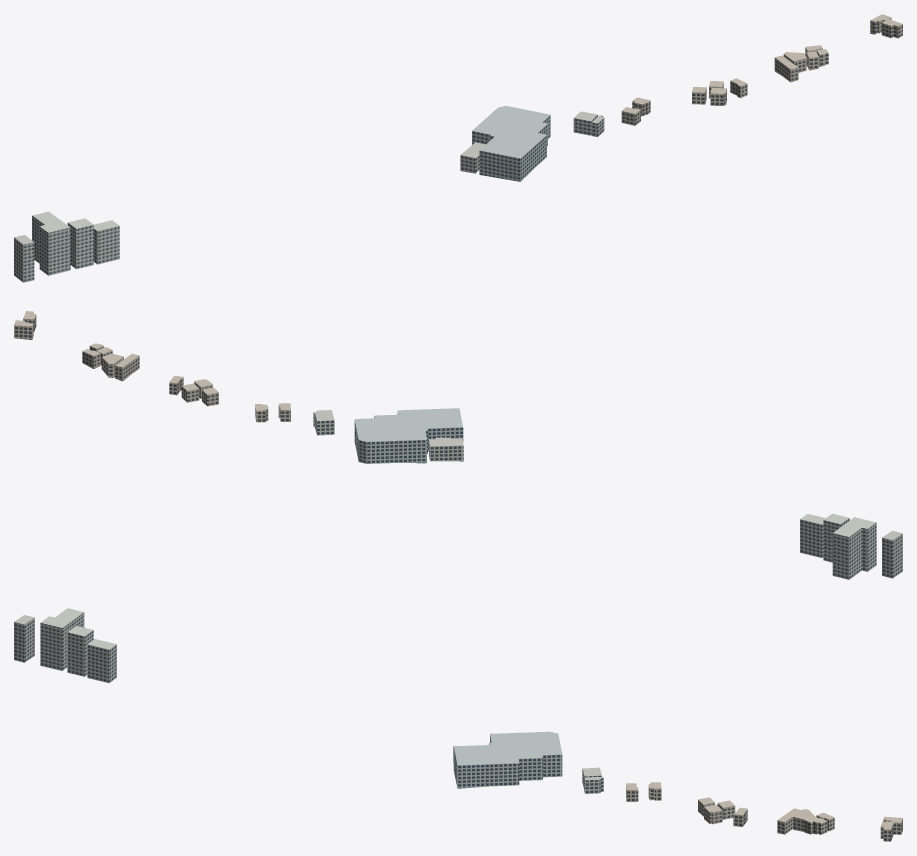
The model's file is city_-8_5.glb.
3 renders of one model, top to bottom at view 1: azimuth 30°, elevation 25°; view 2: azimuth 150°, elevation 25°; view 3: azimuth 330°, elevation 25°, orthographic.
Size of the model in its own units: 795 by 39.29 by 90.67.
Materials: 4 (4 with a texture image).
